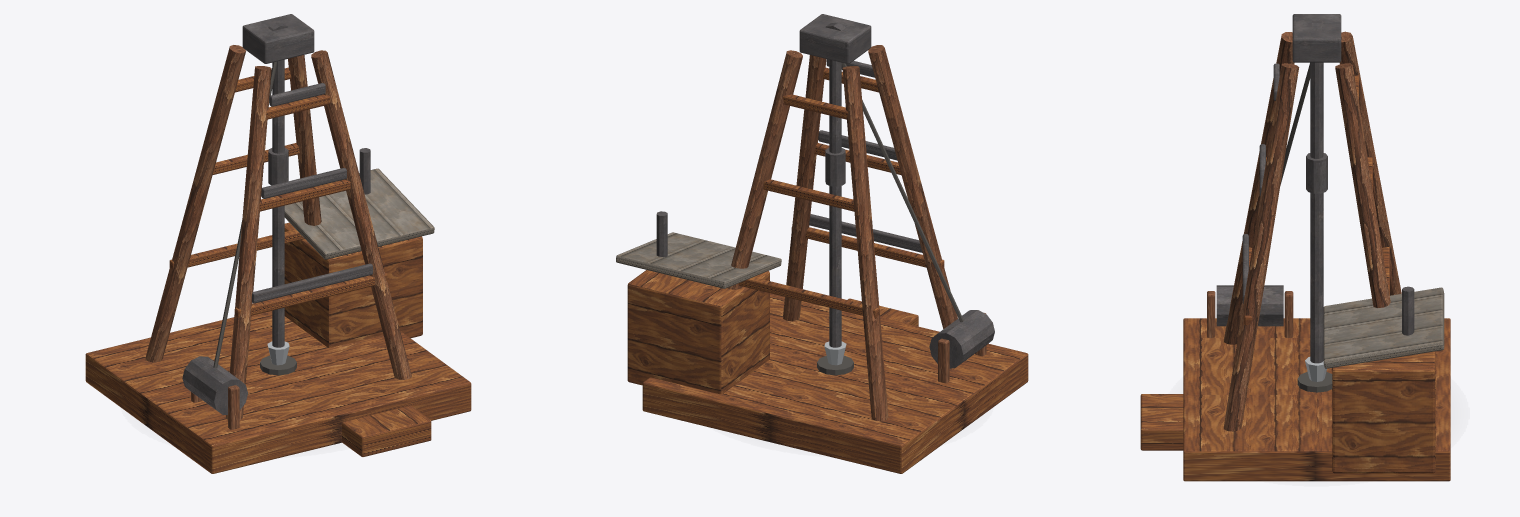
File: drilling-rig.glb
3 views of the same model, side by side, from view 1: azimuth 30°, elevation 25°; view 2: azimuth 150°, elevation 25°; view 3: azimuth 270°, elevation 25° (orthographic). The views are drawn at different scales.
Visible parts, largest first — view 1: deck, shed, shedRoof, leg.001, leg.002, leg, steps, crown, pipeMain, leg.003, drum, brace.001 (+9 smaller); view 2: deck, shed, leg.001, shedRoof, leg, leg.002, leg.003, pipeMain, crown, drum, brace.002, brace.001 (+6 smaller); view 3: deck, shed, shedRoof, leg.002, leg.003, pipeMain, leg, steps, crown, leg.001, drum, pipeJoint (+5 smaller).
Part boxes in pixels (<box>): deck: <box>85,311,471,473</box>; shed: <box>284,222,422,347</box>; shedRoof: <box>284,168,434,259</box>; leg.001: <box>145,45,245,362</box>; leg.002: <box>311,50,411,379</box>; leg: <box>226,66,271,419</box>; steps: <box>342,405,431,456</box>; crown: <box>242,14,314,63</box>; pipeMain: <box>272,59,284,347</box>; leg.003: <box>288,55,321,225</box>; drum: <box>182,356,247,414</box>; brace.001: <box>234,272,387,317</box>; deck: <box>642,293,1028,473</box>; shed: <box>627,270,769,394</box>; leg.001: <box>842,66,888,421</box>; shedRoof: <box>616,232,781,288</box>; leg: <box>868,45,968,361</box>; leg.002: <box>783,55,826,321</box>; leg.003: <box>727,50,802,289</box>; pipeMain: <box>829,59,841,347</box>; crown: <box>799,14,871,63</box>; drum: <box>929,310,994,368</box>; brace.002: <box>738,277,879,318</box>; brace.001: <box>791,226,944,268</box>; deck: <box>1183,318,1450,481</box>; shed: <box>1332,351,1435,473</box>; shedRoof: <box>1323,287,1444,368</box>; leg.002: <box>1223,63,1299,431</box>; leg.003: <box>1335,63,1390,307</box>; pipeMain: <box>1310,62,1323,363</box>; leg: <box>1223,32,1294,344</box>; steps: <box>1140,394,1183,450</box>; crown: <box>1292,14,1341,62</box>; leg.001: <box>1339,31,1401,295</box>; drum: <box>1216,285,1283,326</box>; pipeJoint: <box>1306,153,1327,193</box>.
Bounding box in the file's own units: 3.5 × 3.56 × 3.1.
10 materials, 8 textured.
